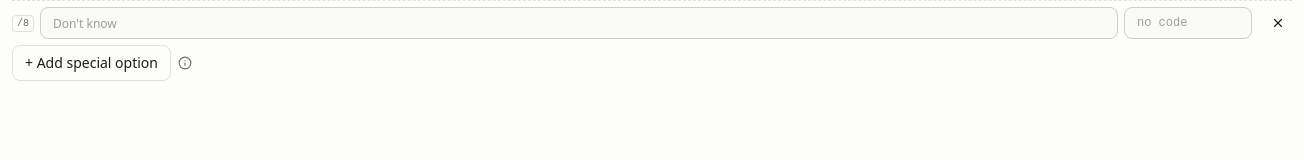
Scenario: special answers › show nothing until one is added; the menu holds the kinds not yet added
Earlier steps of the test are not shown.
Click the button "+ Add special option" at (92, 63), box [12,45,171,81]
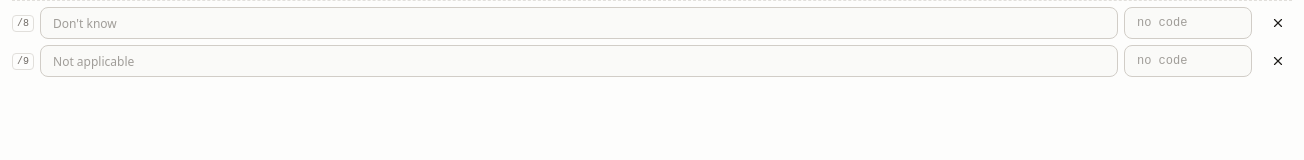
Expected: the button "+ Add special option" is gone
